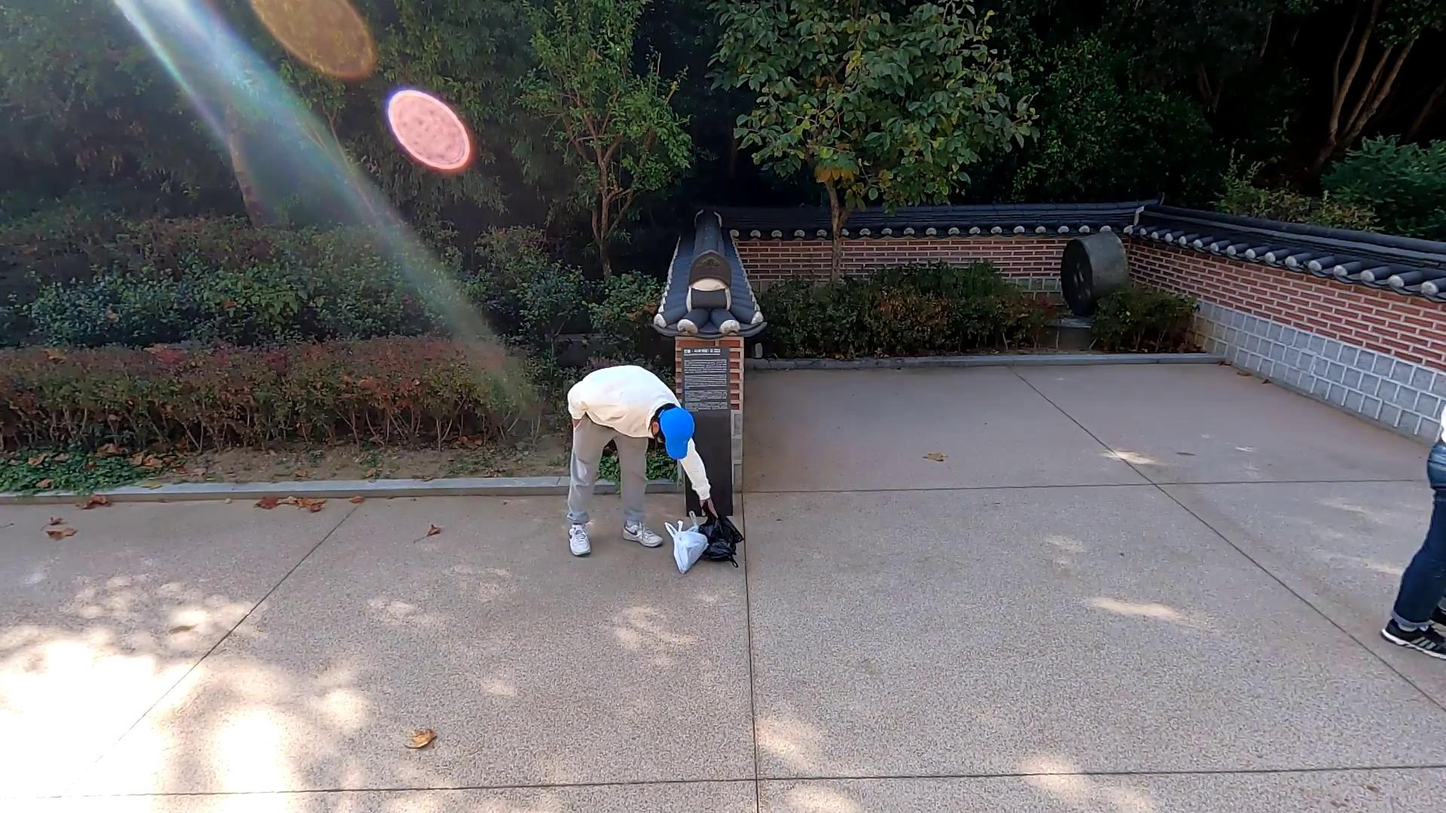person: (564, 365, 721, 561)
trash: (692, 500, 749, 551), (661, 513, 707, 571), (700, 539, 745, 574)
